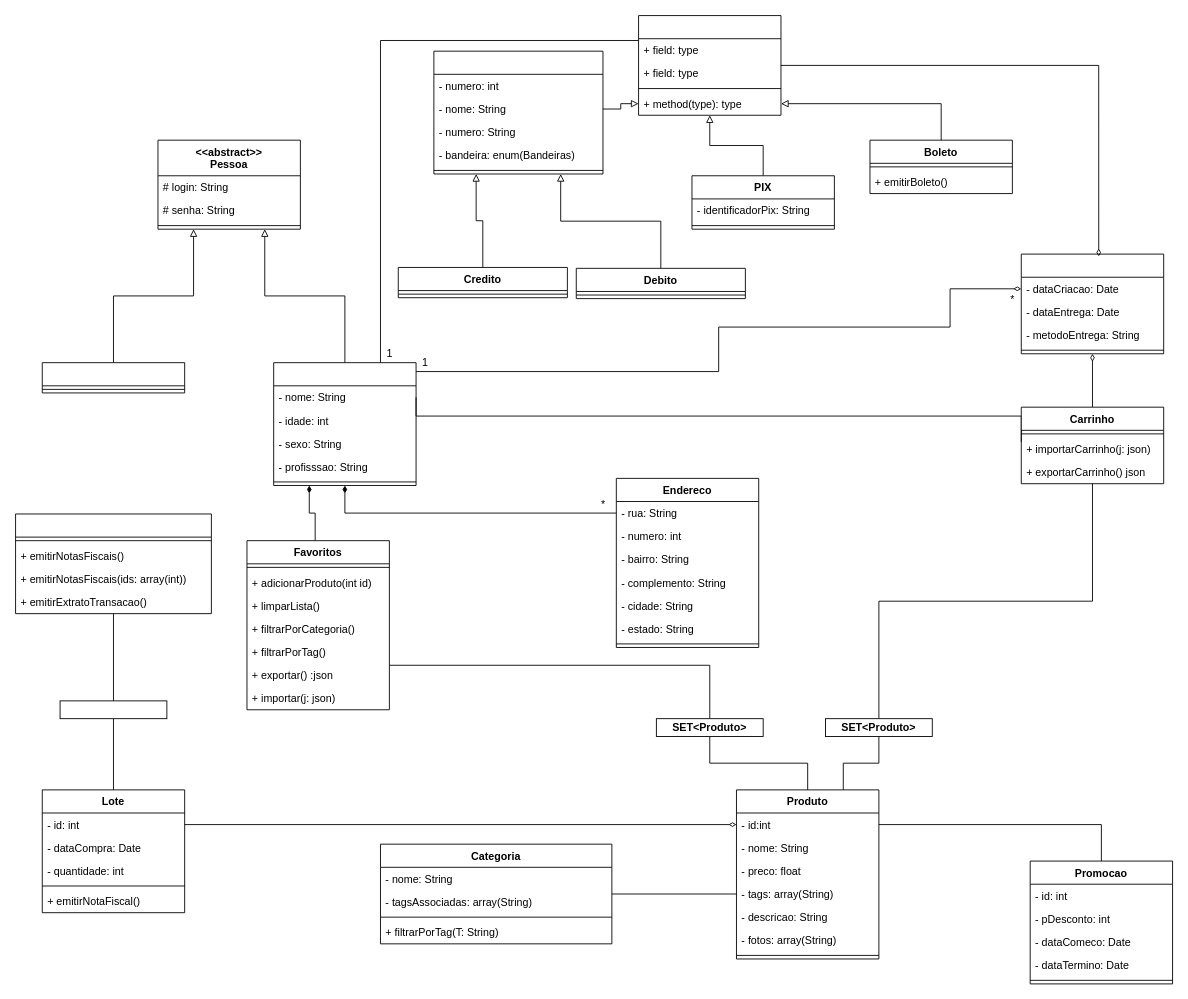
Some shapes in this 1188 by 999 pixel diagram are drawn without their labels. The shapes that lost their labels are listed below. From the top down, each one's box as (x1, y1, x2, y2) in pixels, then its label:
(638, 15, 781, 115): MetodoPagamento
(433, 50, 603, 174): Cartao
(1020, 253, 1164, 354): Pedido
(41, 362, 185, 393): Administrador
(273, 362, 416, 485): Usuario
(15, 513, 211, 614): Estoque
(59, 700, 167, 719): SET<Lote>
